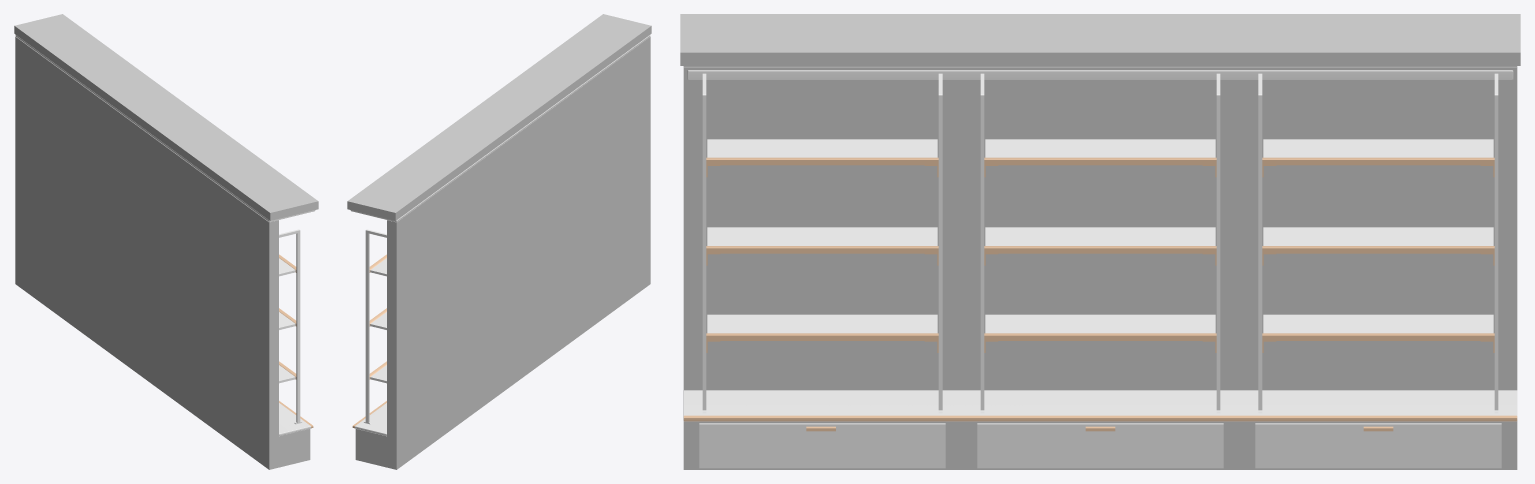
The picture shows the model from 3 angles, left to right: view 1: azimuth 30°, elevation 25°; view 2: azimuth 150°, elevation 25°; view 3: azimuth 270°, elevation 25°; orthographic projection. The views are drawn at different scales.
Parts seen in each view (by area): view 1: SM_H_Residential_Bedroom_Shelf_01; view 2: SM_H_Residential_Bedroom_Shelf_01; view 3: SM_H_Residential_Bedroom_Shelf_01.
Part boxes in pixels (<box>): SM_H_Residential_Bedroom_Shelf_01: <box>14,14,318,469</box>; SM_H_Residential_Bedroom_Shelf_01: <box>347,14,651,469</box>; SM_H_Residential_Bedroom_Shelf_01: <box>680,14,1520,469</box>.
Bounding box in the file's own units: 253 × 27.53 × 140.
